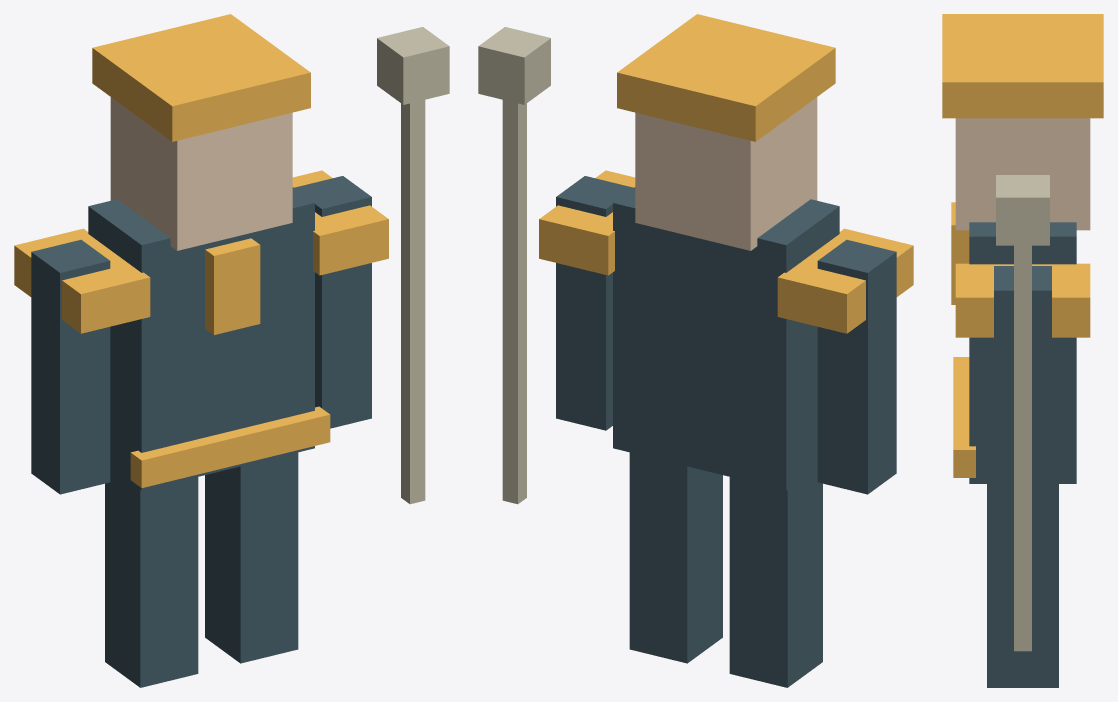
The model's file is 07_dax_whispercoil_runner_of_echo.glb.
3 views of the same model, side by side, from view 1: azimuth 30°, elevation 25°; view 2: azimuth 150°, elevation 25°; view 3: azimuth 270°, elevation 25° (orthographic).
Parts seen in each view (by area): view 1: Dax Whispercoil, Runner of Echo; view 2: Dax Whispercoil, Runner of Echo; view 3: Dax Whispercoil, Runner of Echo.
Part boxes in pixels (x1,y1,x2,y2): Dax Whispercoil, Runner of Echo: (14, 14, 449, 687); Dax Whispercoil, Runner of Echo: (478, 14, 913, 687); Dax Whispercoil, Runner of Echo: (942, 14, 1103, 687).
Size of the model in its own units: 1.09 by 1.59 by 0.3867.
